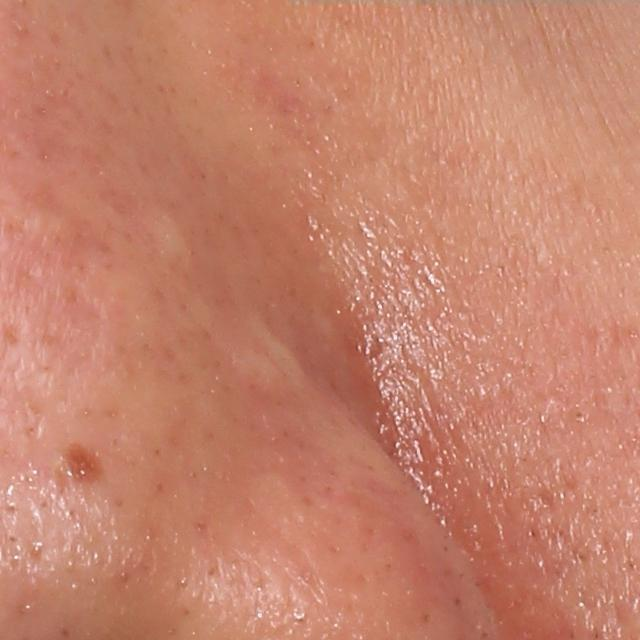hypertrophic_scar: (233, 317, 334, 409), (152, 211, 201, 272)
